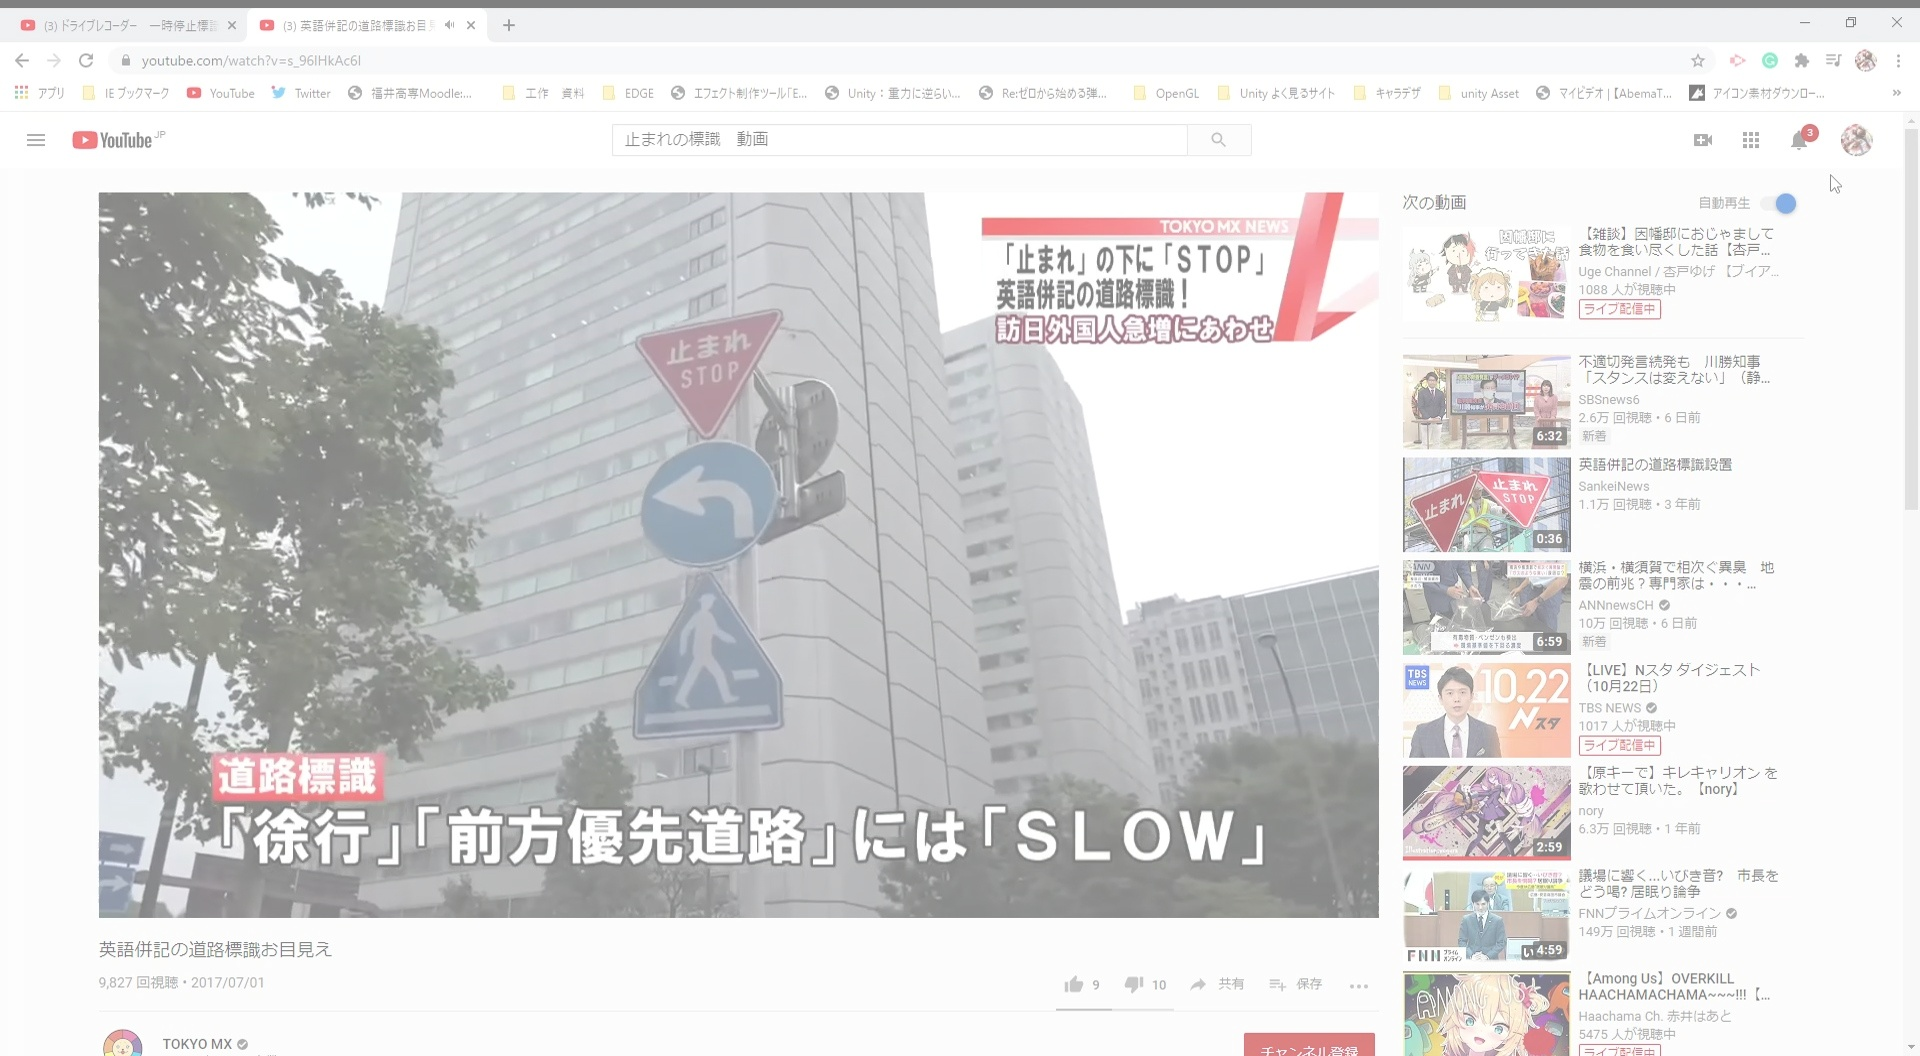Regulatory_sign_triangle: (621, 310, 801, 442)
